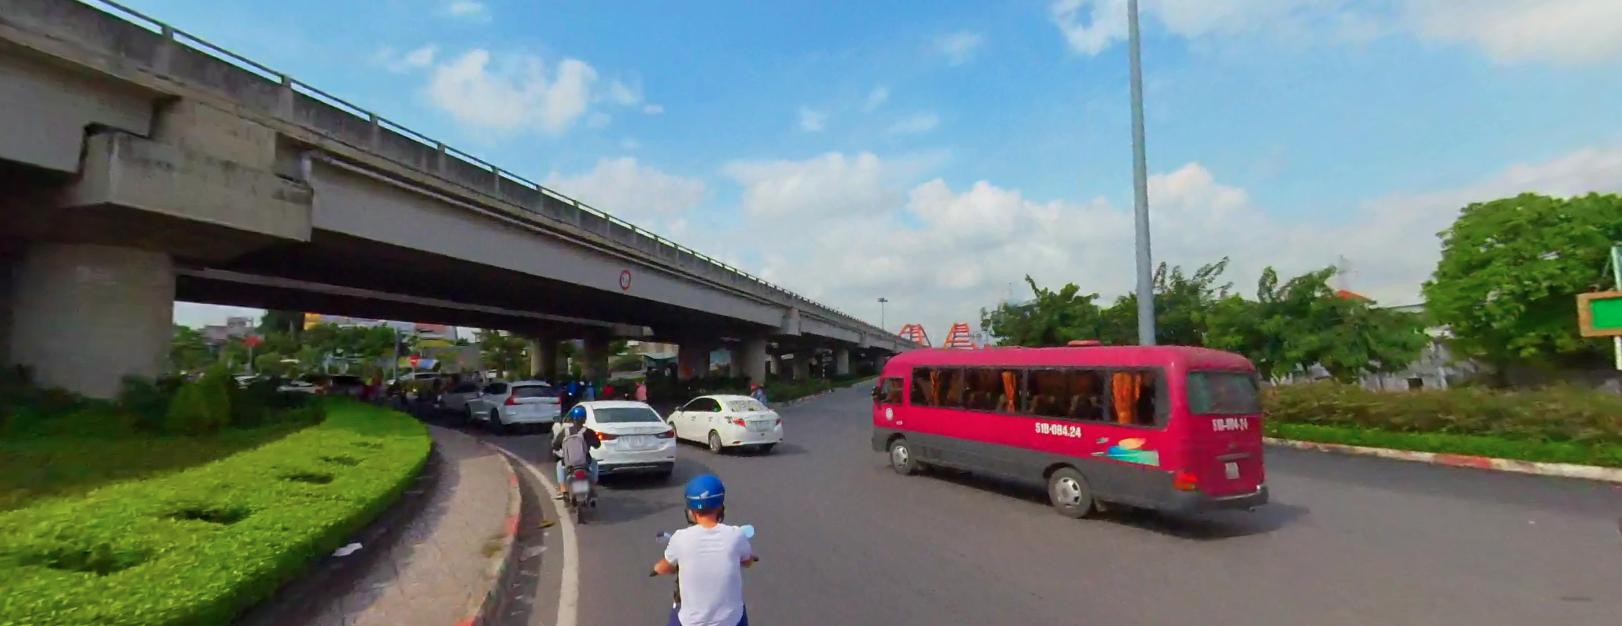Cam con lai: (618, 265, 632, 289), (619, 268, 631, 288), (619, 269, 630, 289)
Cam nguoc chieu: (410, 354, 416, 364)
